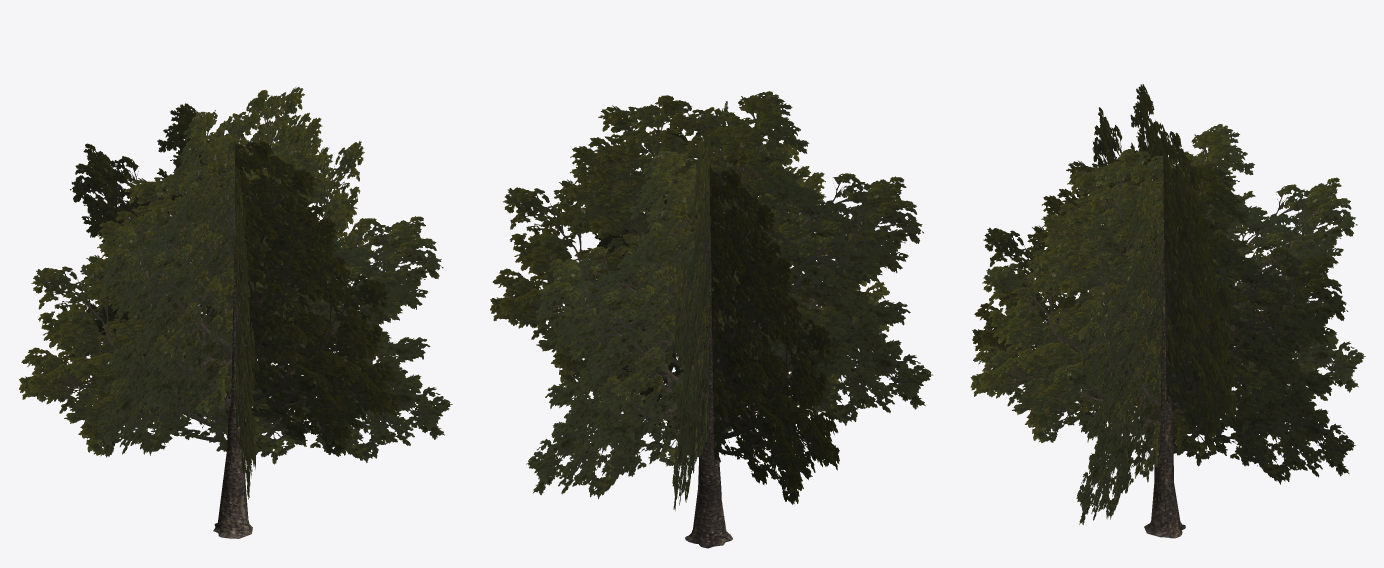
The model's file is tree_rt_4.obj.
3 renders of one model, left to right at view 1: azimuth 30°, elevation 25°; view 2: azimuth 150°, elevation 25°; view 3: azimuth 270°, elevation 25°, orthographic. The views are drawn at different scales.
Parts seen in each view (by area): view 1: tree_rt_4; view 2: tree_rt_4; view 3: tree_rt_4.
Boxes of the visible parts, box(x1,y1,x2,y2) form: tree_rt_4: box(19, 87, 452, 538); tree_rt_4: box(490, 91, 933, 548); tree_rt_4: box(970, 84, 1365, 538).
Size of the model in its own units: 4.72 by 5.56 by 4.72.
